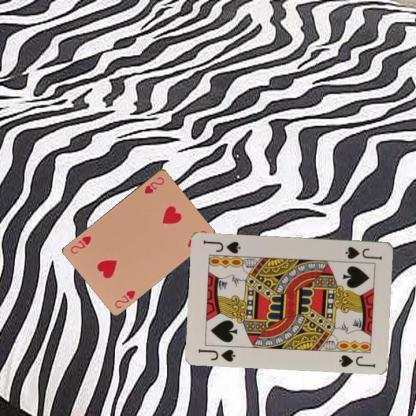2h: (140, 173, 166, 196), (112, 287, 137, 309)
Js: (342, 243, 384, 261), (196, 346, 237, 363)
